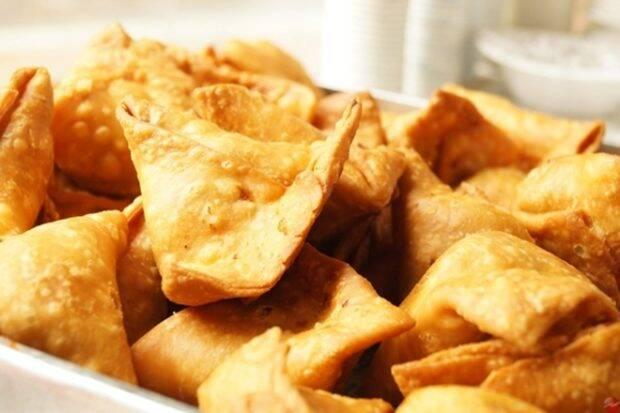samosa: (117, 97, 351, 305), (0, 211, 137, 382)
